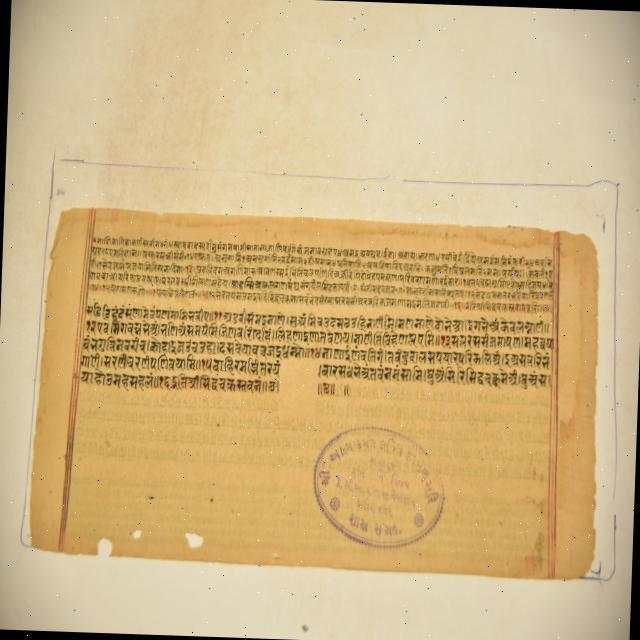text_paragraph: (28, 204, 597, 585)
